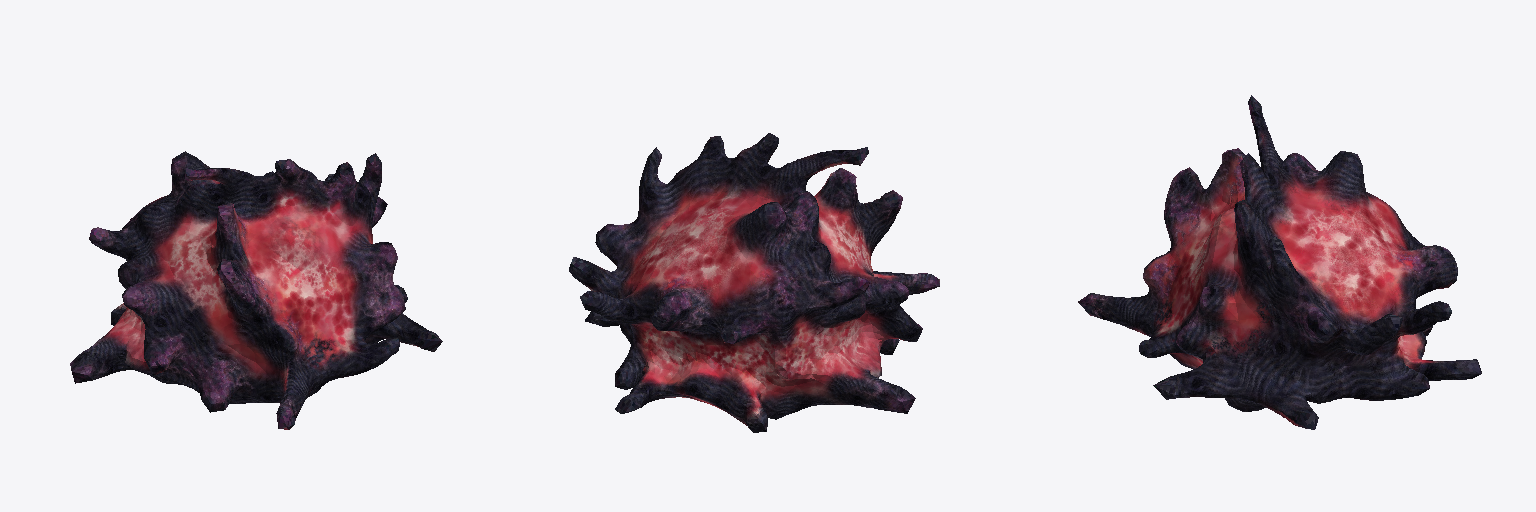
3 renders of one model, left to right at view 1: azimuth 30°, elevation 25°; view 2: azimuth 150°, elevation 25°; view 3: azimuth 270°, elevation 25°, orthographic.
Parts seen in each view (by area): view 1: Alien_Grub_1; view 2: Alien_Grub_1; view 3: Alien_Grub_1.
Part boxes in pixels (x1,y1,x2,y2): Alien_Grub_1: (70, 151, 442, 429); Alien_Grub_1: (569, 133, 939, 432); Alien_Grub_1: (1078, 95, 1481, 429).
Size of the model in its own units: 63.98 by 43.99 by 67.54.
1 materials, 1 textured.